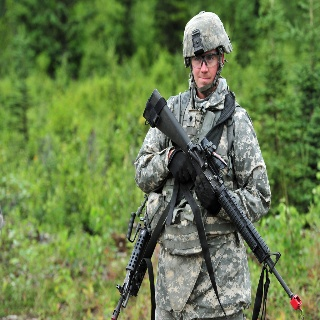rifle: (141, 88, 307, 315), (111, 193, 150, 320)
